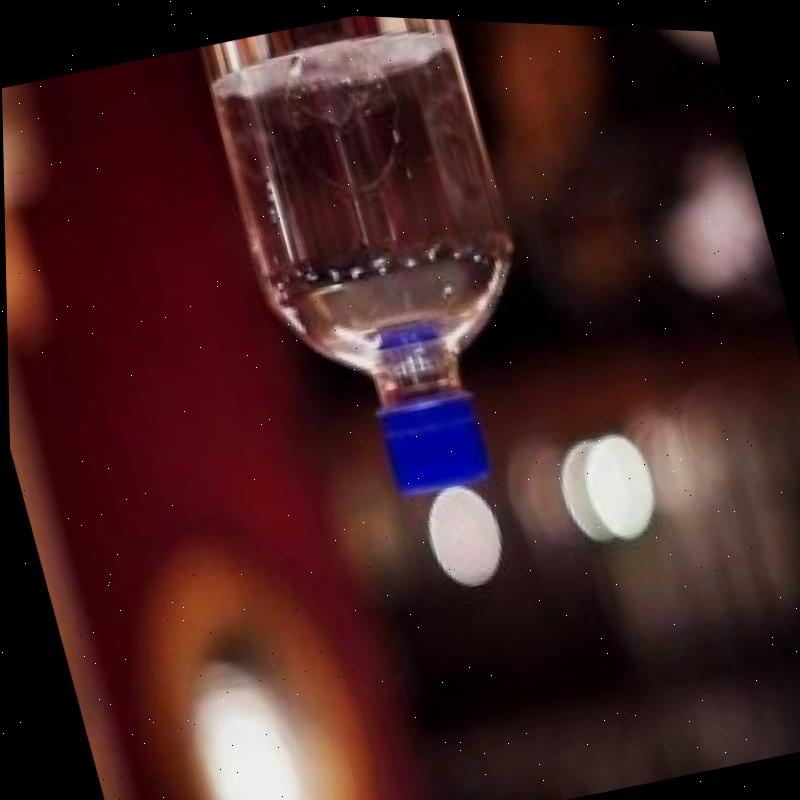botella: (194, 7, 570, 523)
